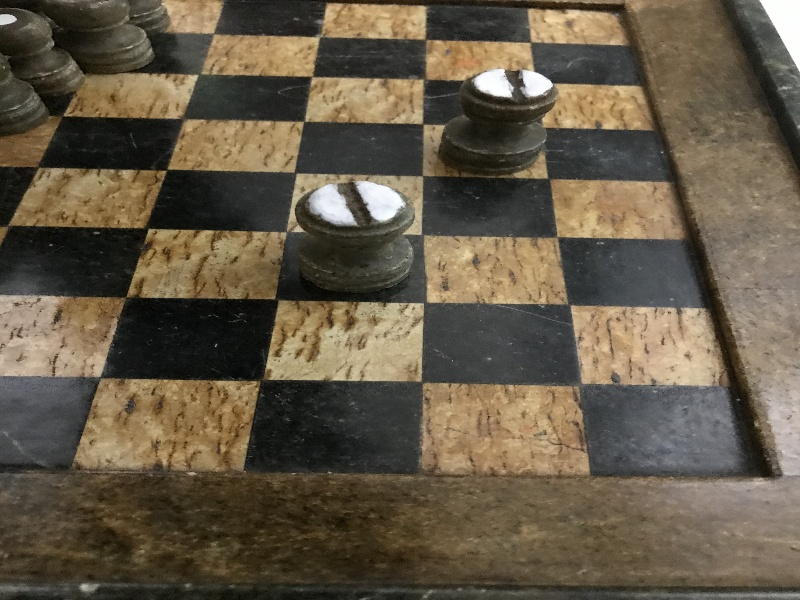WhiteRook: (293, 182, 415, 294), (440, 68, 557, 173)
